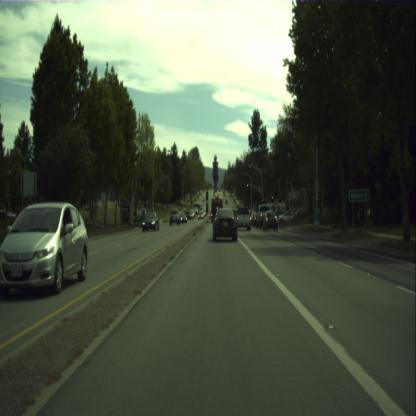Red: (245, 182, 249, 194), (260, 198, 264, 208), (206, 203, 209, 212), (271, 194, 273, 205)
